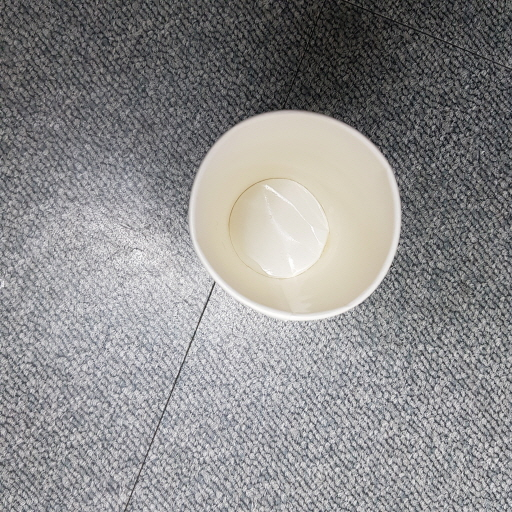Paper_1: (183, 109, 410, 320)
